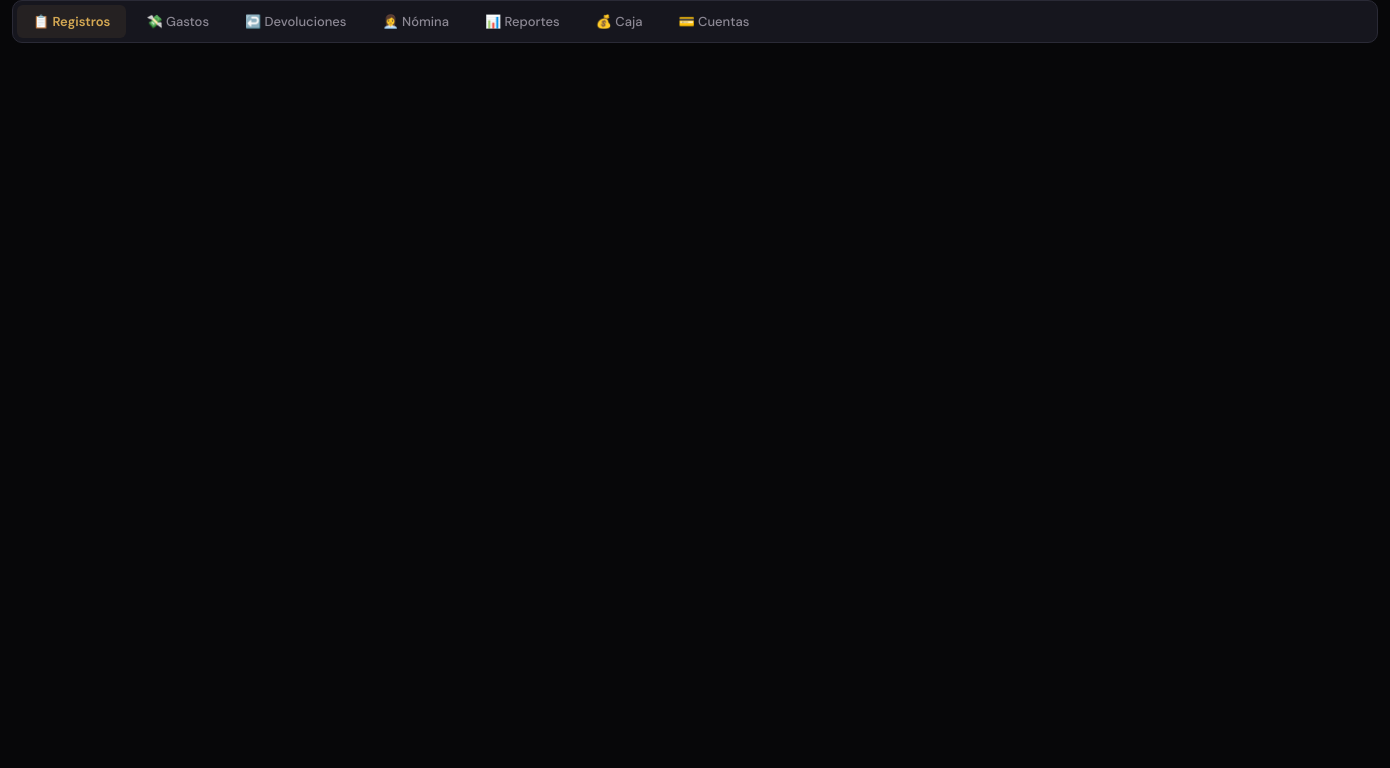
Test: FinanzasPage — tab Caja › los tabs existentes siguen funcionando (Registros sigue presente)
Click the button "📋 Registros": (72, 22) [17,5,126,38]
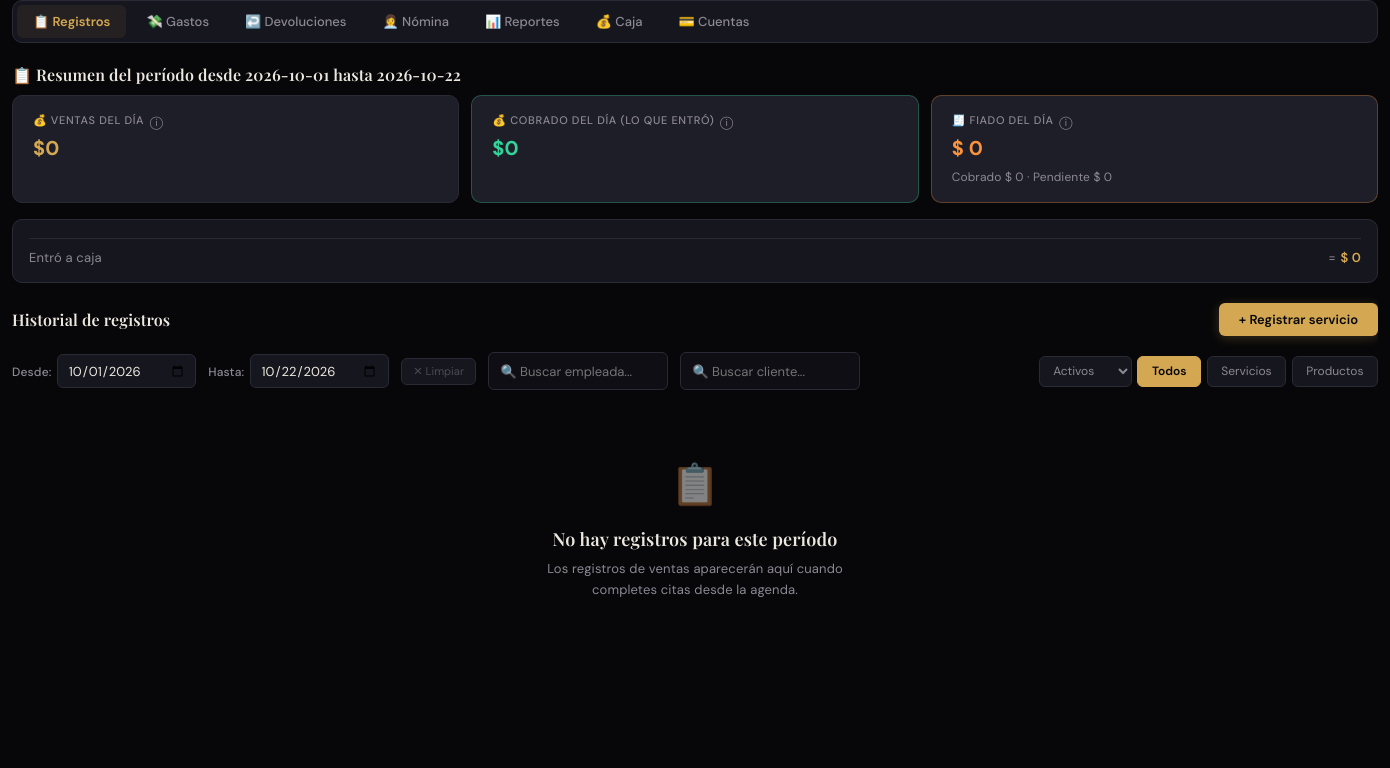
Expected: the heading "No hay registros para este período" is shown, [552,526,838,553]
